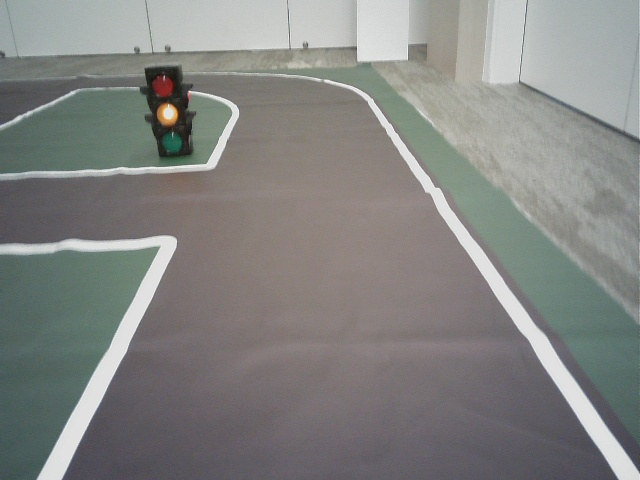yellow: (147, 72, 186, 152)
